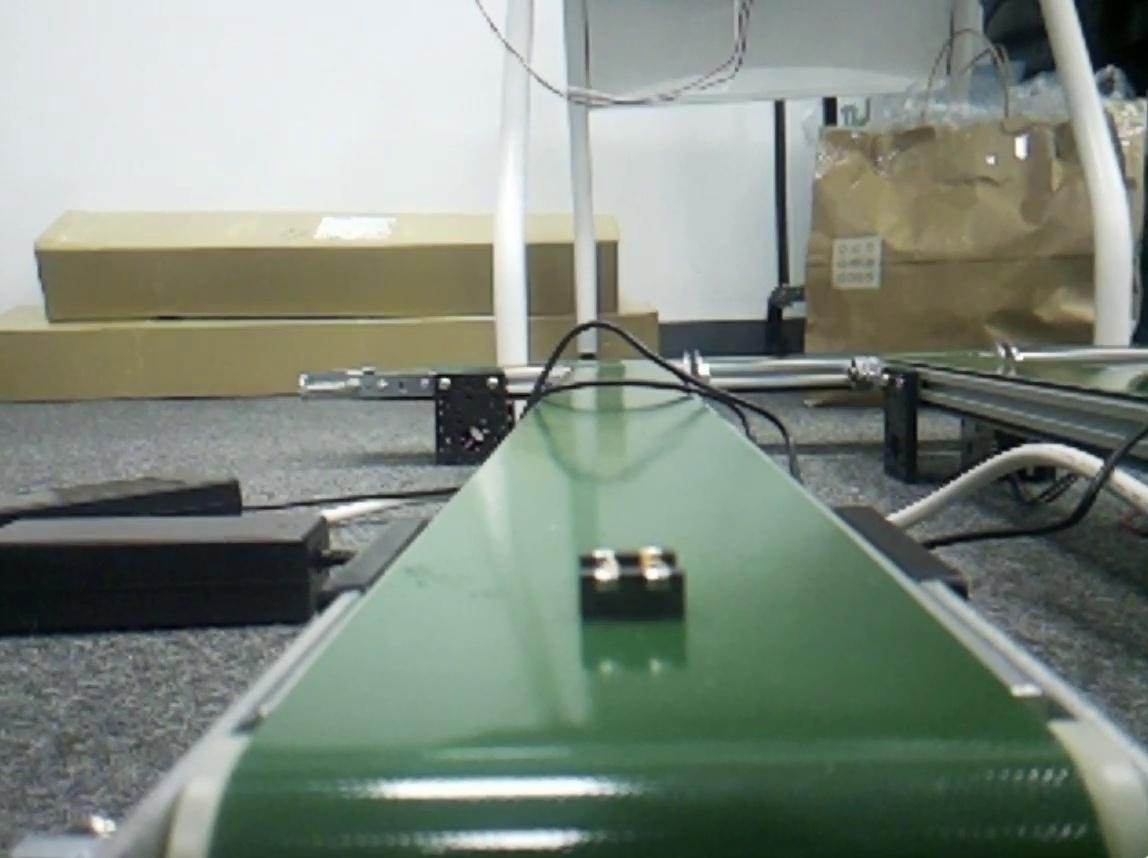inductor: (575, 550, 687, 626)
